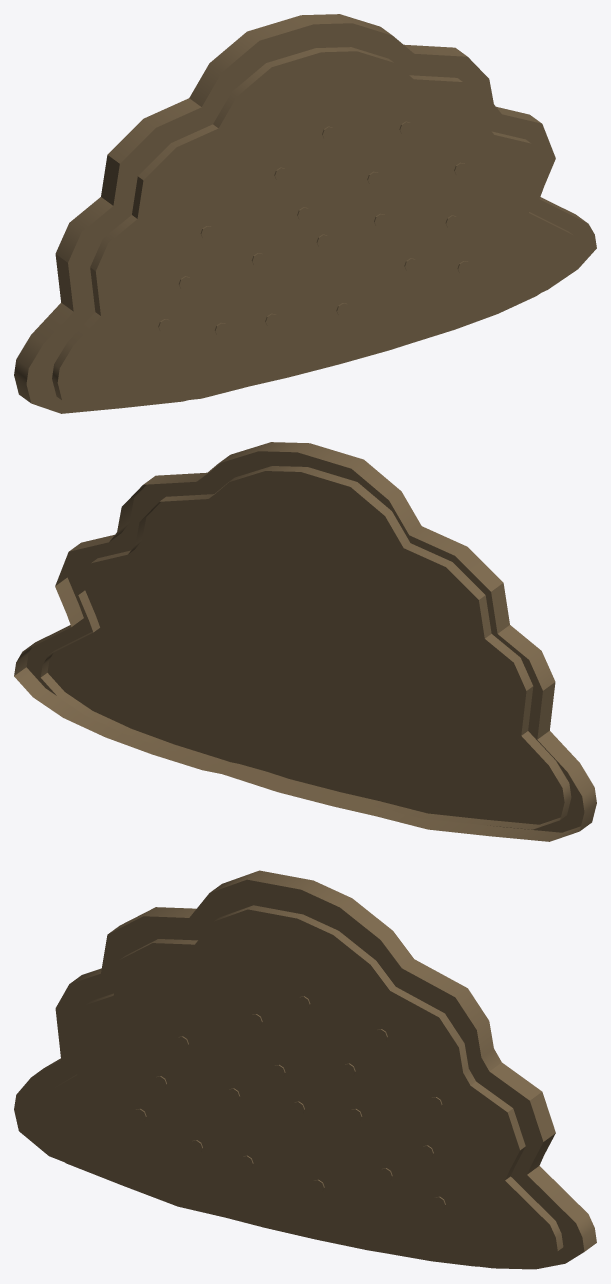
The model's file is Bush (1).fbx.
The picture shows the model from 3 angles, top to bottom: view 1: azimuth 30°, elevation 25°; view 2: azimuth 150°, elevation 25°; view 3: azimuth 330°, elevation 25°; orthographic projection.
Parts seen in each view (by area): view 1: glaçage, biscuit; view 2: biscuit, glaçage; view 3: glaçage, biscuit.
Part boxes in pixels (left/top/right/bottom): glaçage: left=52, top=47, right=581, bottom=409; biscuit: left=14, top=14, right=596, bottom=413; biscuit: left=14, top=442, right=596, bottom=841; glaçage: left=40, top=466, right=571, bottom=829; glaçage: left=34, top=905, right=563, bottom=1267; biscuit: left=14, top=870, right=596, bottom=1269.
Size of the model in its own units: 4.23 by 2.45 by 0.2425.
